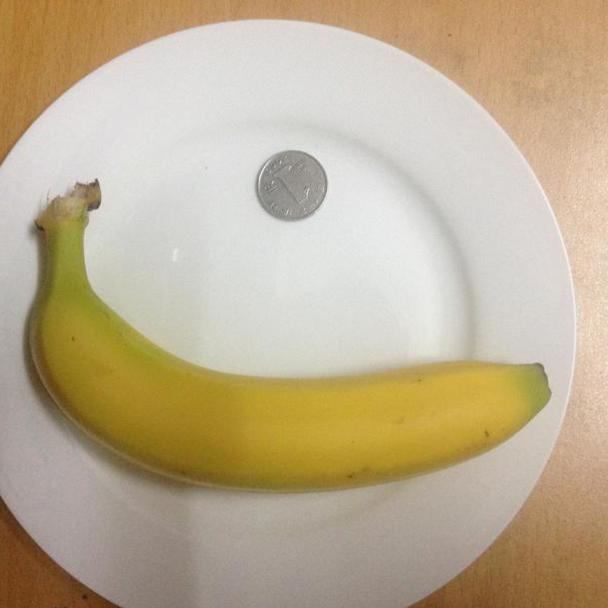banana: (22, 192, 551, 493)
